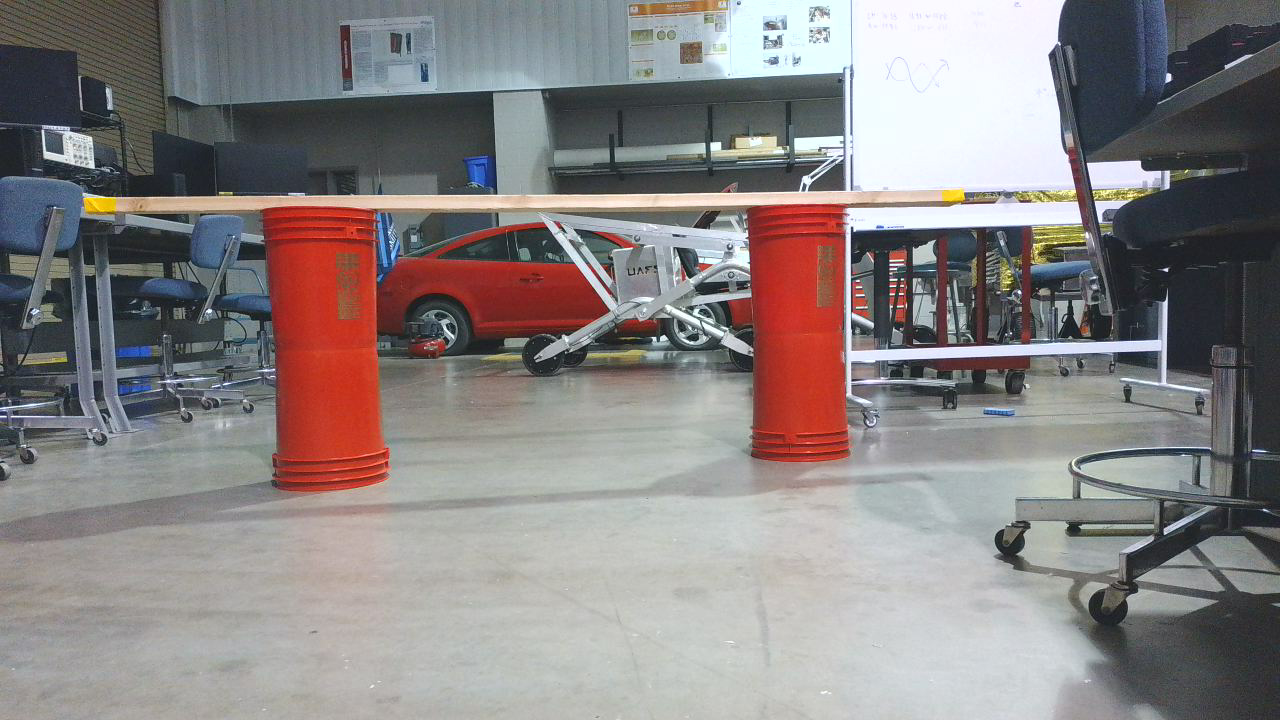red_bucket_arch: (264, 197, 855, 502)
